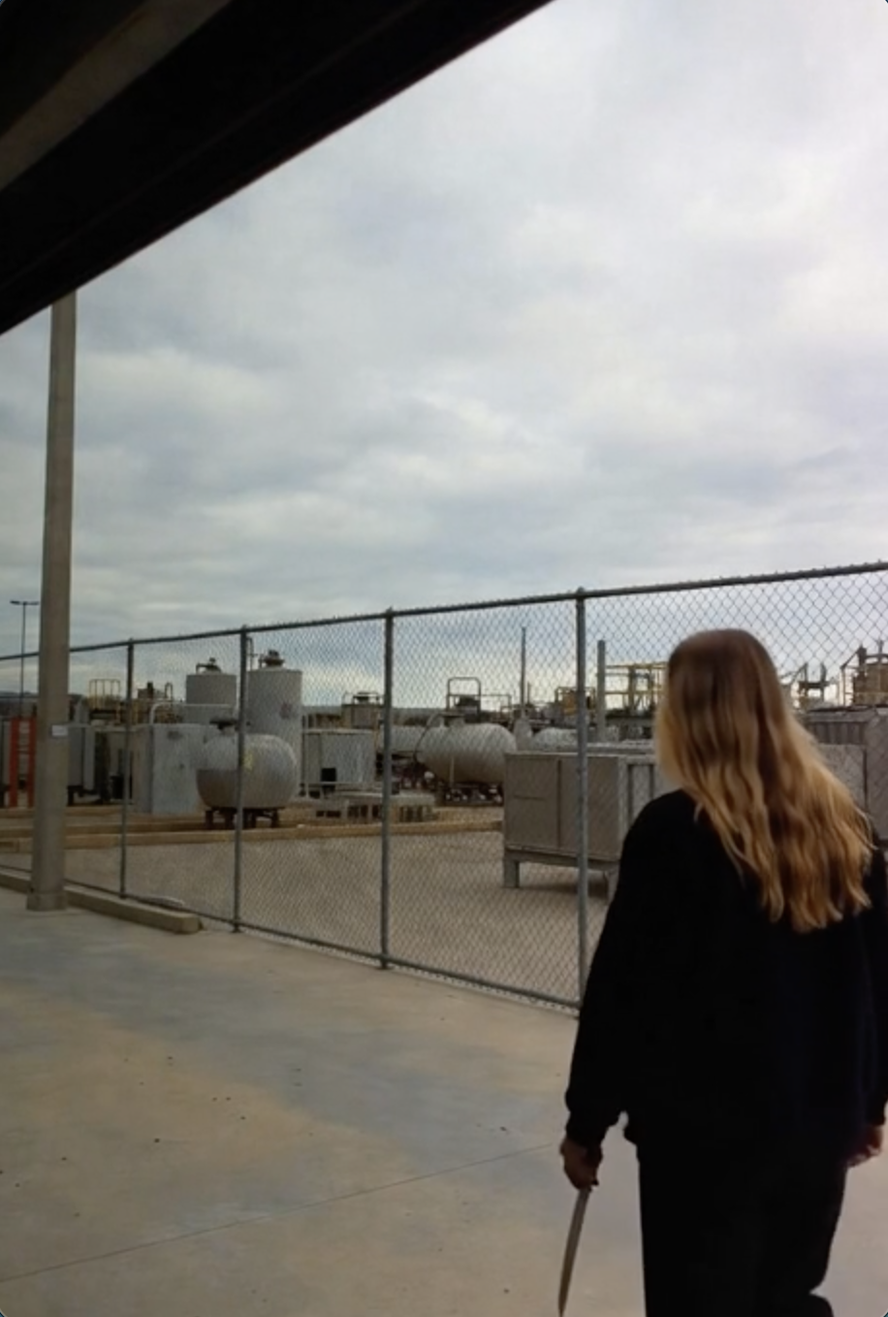Heavy Gun: (539, 619, 888, 1317)
Knife: (539, 1127, 628, 1317)
